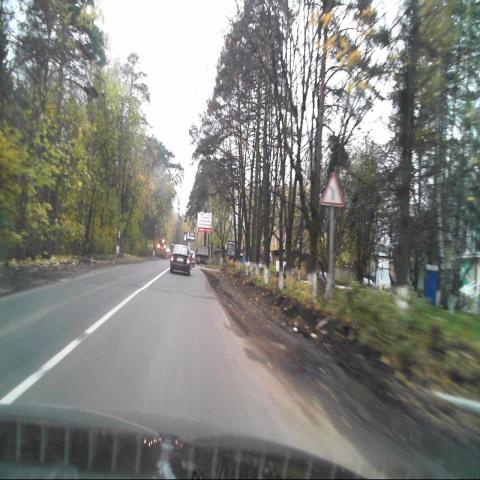1_11_1: (321, 172, 345, 207)
